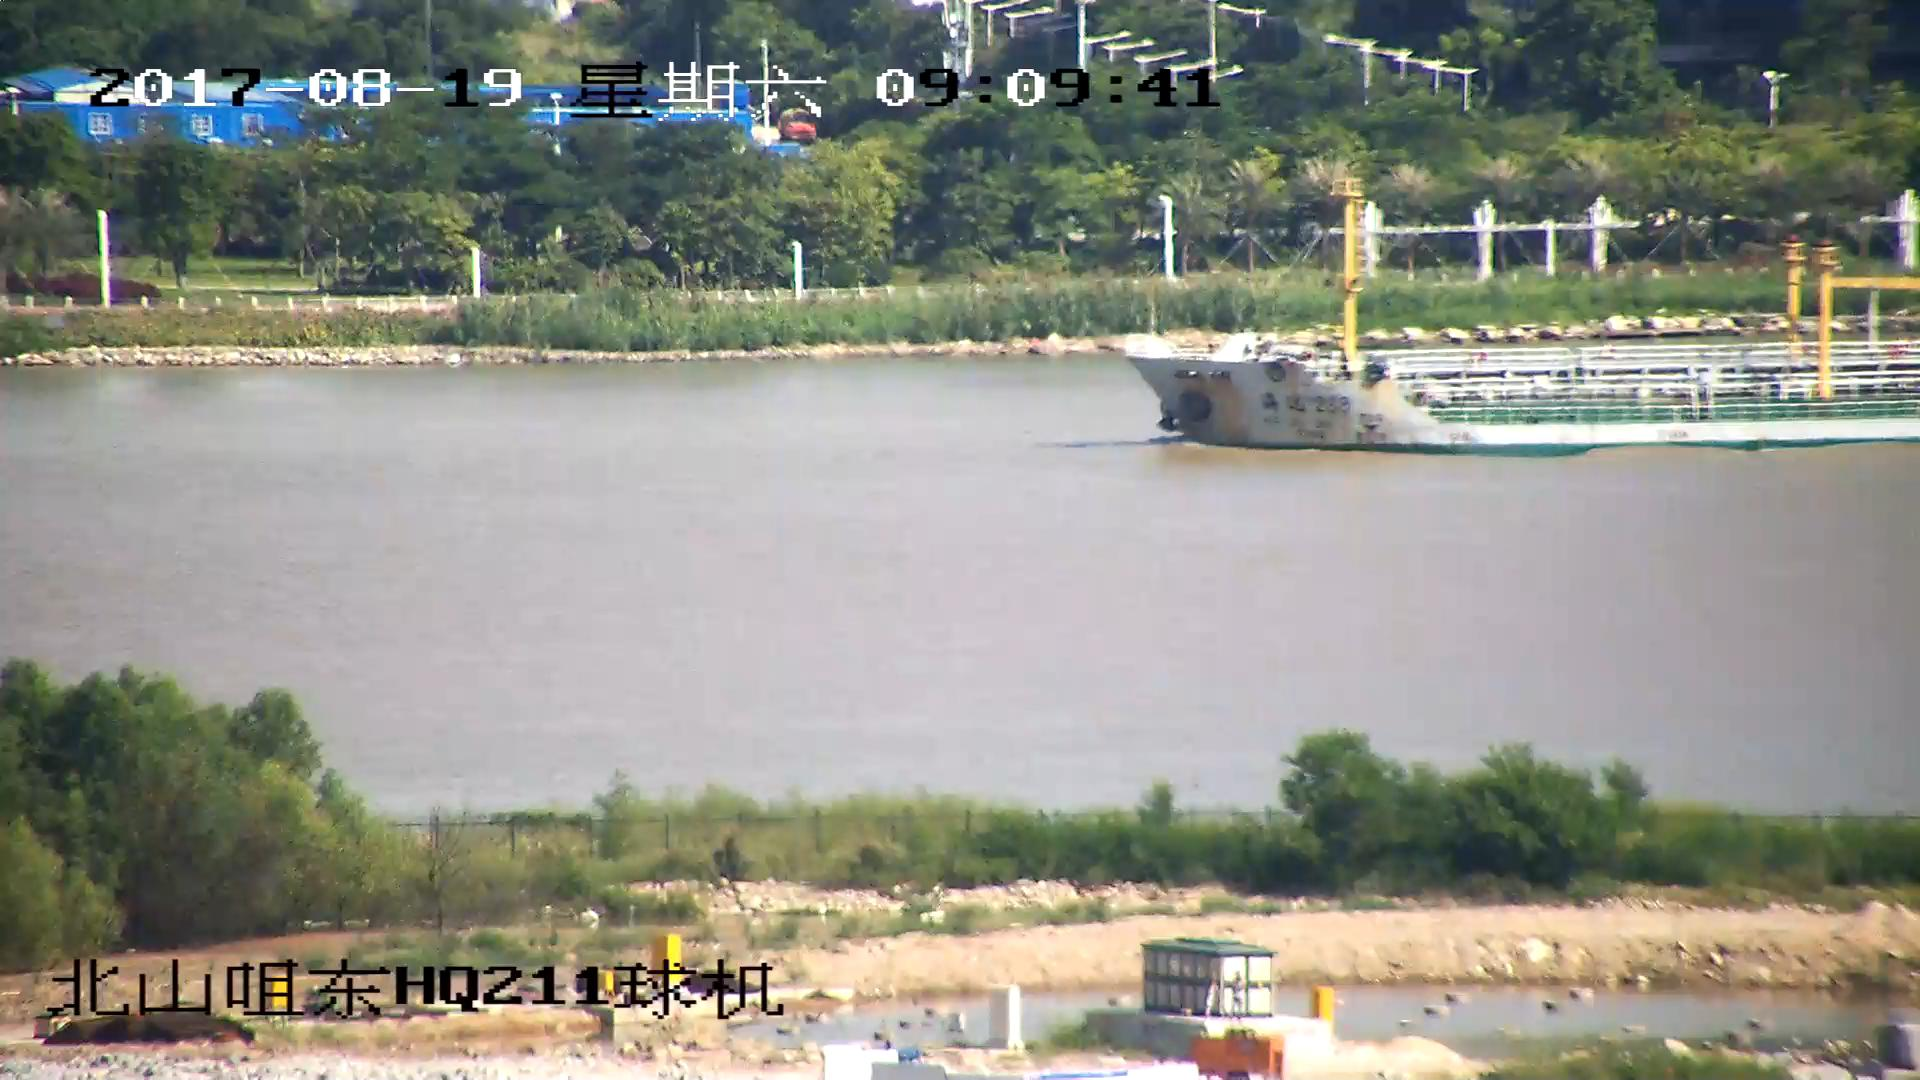general cargo ship: (1137, 206, 1920, 447)
